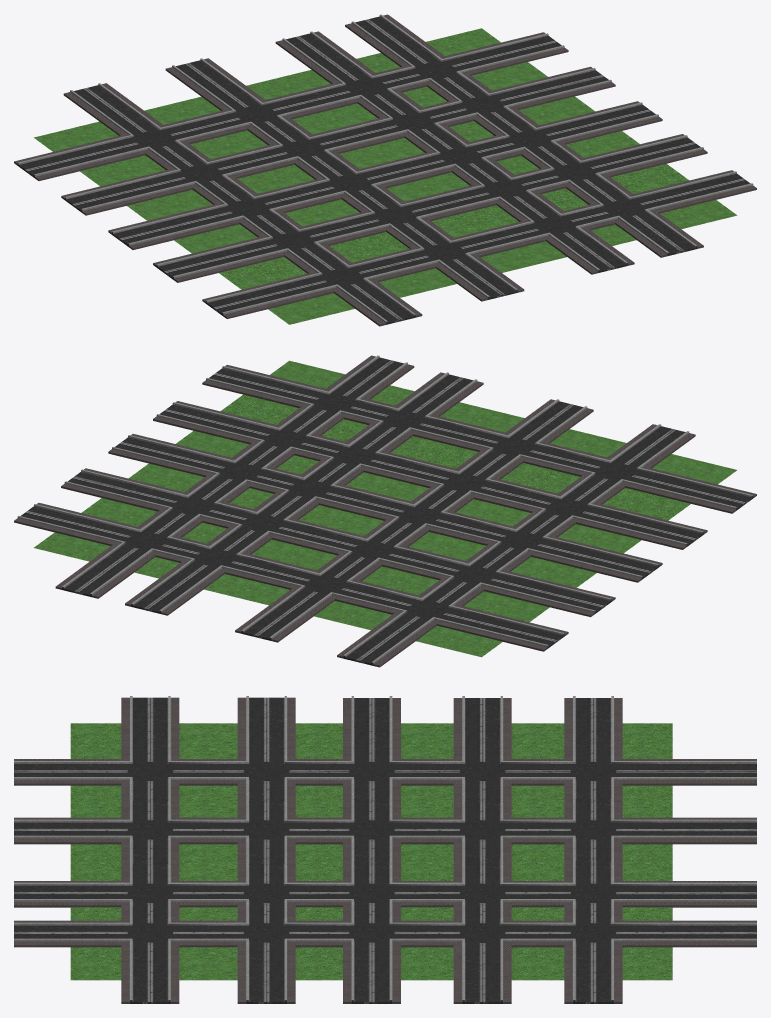
The model's file is road.glb.
3 views of the same model, one above another, from view 1: azimuth 30°, elevation 25°; view 2: azimuth 150°, elevation 25°; view 3: azimuth 270°, elevation 25° (orthographic). The views are drawn at different scales.
Visible parts, largest first — view 1: cross, grassGround; view 2: cross, grassGround; view 3: cross, grassGround.
Boxes of the visible parts, left/top/right/bottom form: cross: left=14, top=14, right=756, bottom=326; grassGround: left=34, top=28, right=737, bottom=324; cross: left=14, top=355, right=756, bottom=667; grassGround: left=34, top=360, right=736, bottom=657; cross: left=14, top=696, right=756, bottom=1003; grassGround: left=70, top=723, right=672, bottom=980.
Bounding box in the file's own units: 260 × 1.54 × 268.
2 materials, 2 textured.
